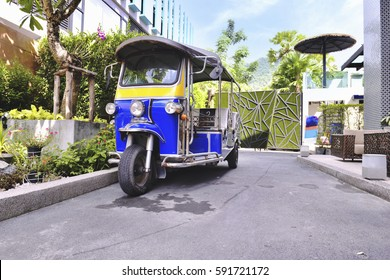threewheel: (105, 35, 240, 194)
